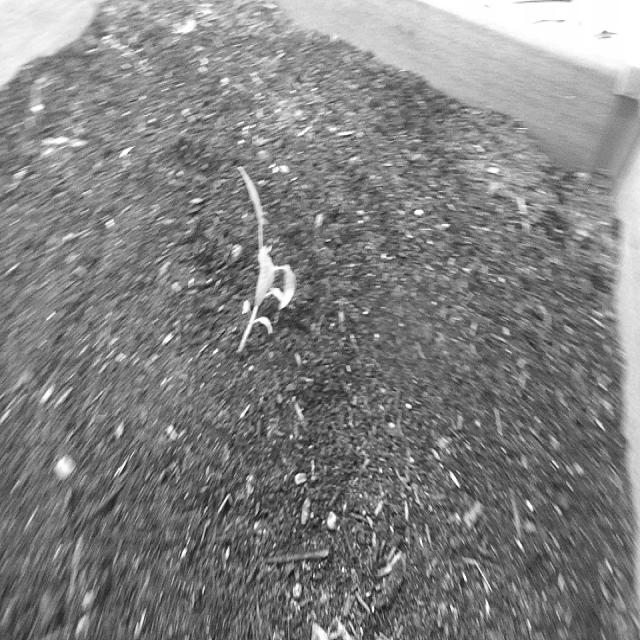Healthy: (231, 151, 303, 375)
